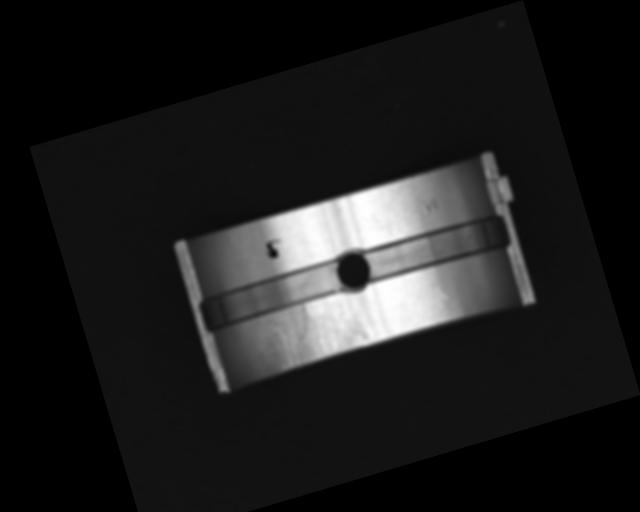blot: (262, 237, 285, 260)
bruise: (422, 197, 440, 213)
gap: (199, 257, 350, 332), (360, 211, 512, 285)
hole: (329, 246, 374, 298)
nick: (421, 265, 447, 305)
scratch: (260, 289, 369, 372)
